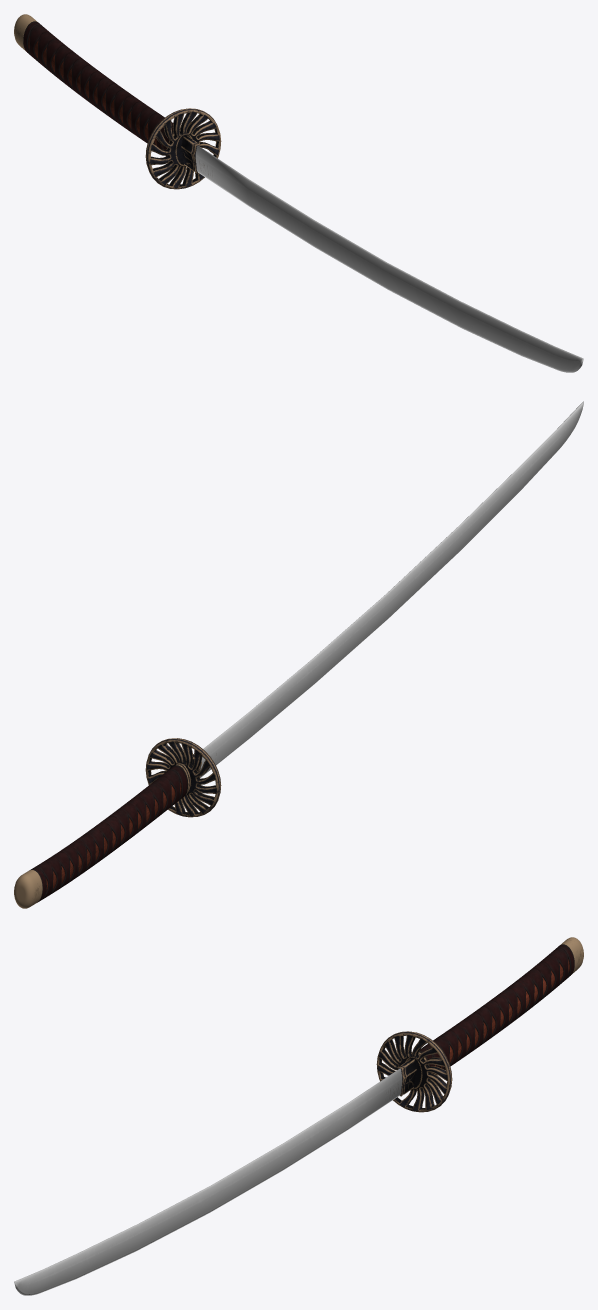
Rendered from katana.glb.
The picture shows the model from 3 angles, top to bottom: view 1: azimuth 30°, elevation 25°; view 2: azimuth 150°, elevation 25°; view 3: azimuth 330°, elevation 25°; orthographic projection.
Visible parts, largest first — view 1: Katana_LowPoly_Final.006; view 2: Katana_LowPoly_Final.006; view 3: Katana_LowPoly_Final.006.
Part boxes in pixels (left/top/right/bottom): Katana_LowPoly_Final.006: left=14, top=14, right=583, bottom=372; Katana_LowPoly_Final.006: left=14, top=401, right=583, bottom=908; Katana_LowPoly_Final.006: left=14, top=937, right=583, bottom=1295.
Bounding box in the file's own units: 0.1364 × 0.214 × 1.78.
Materials: 1 (1 with a texture image).
